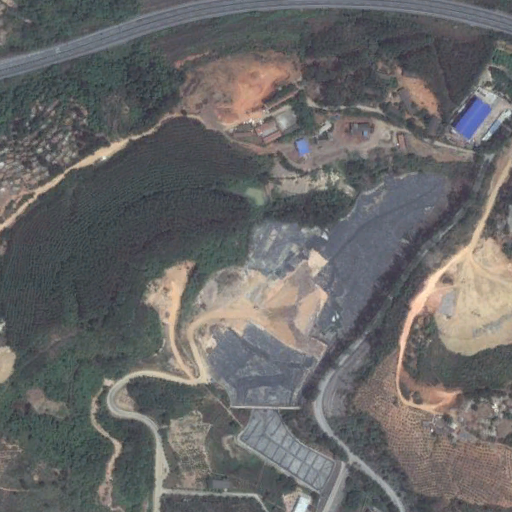lf: (203, 171, 451, 408)
